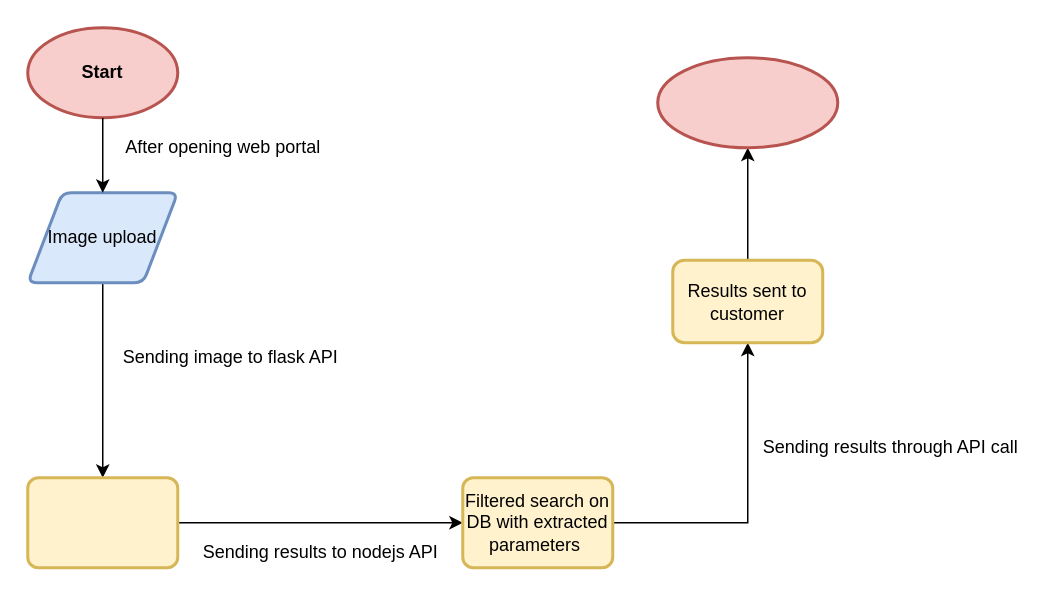
Some shapes in this 1058 by 594 pixel diagram are drawn without their labels. Here are the shapes that lost their labels. From the top down, the centre of each, then its label:
At pixel 747 102: "End".
At pixel 102 522: "Parameters(type, color scheme) extraction using CNN model".
